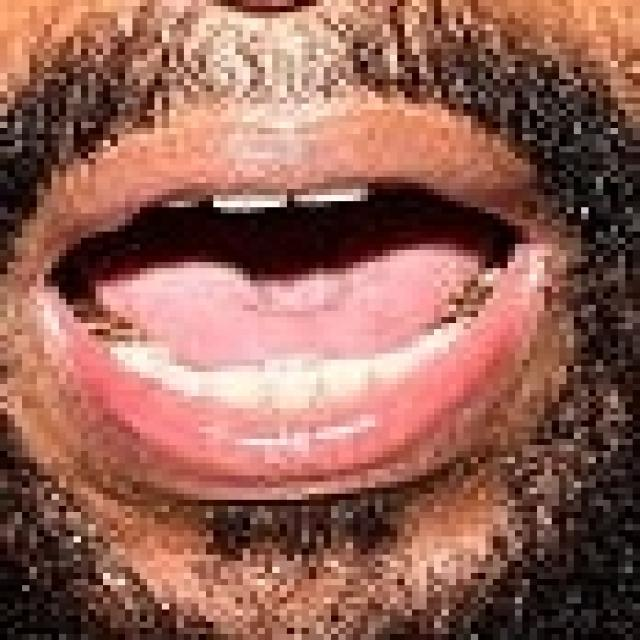open-mouth: (22, 158, 567, 500)
